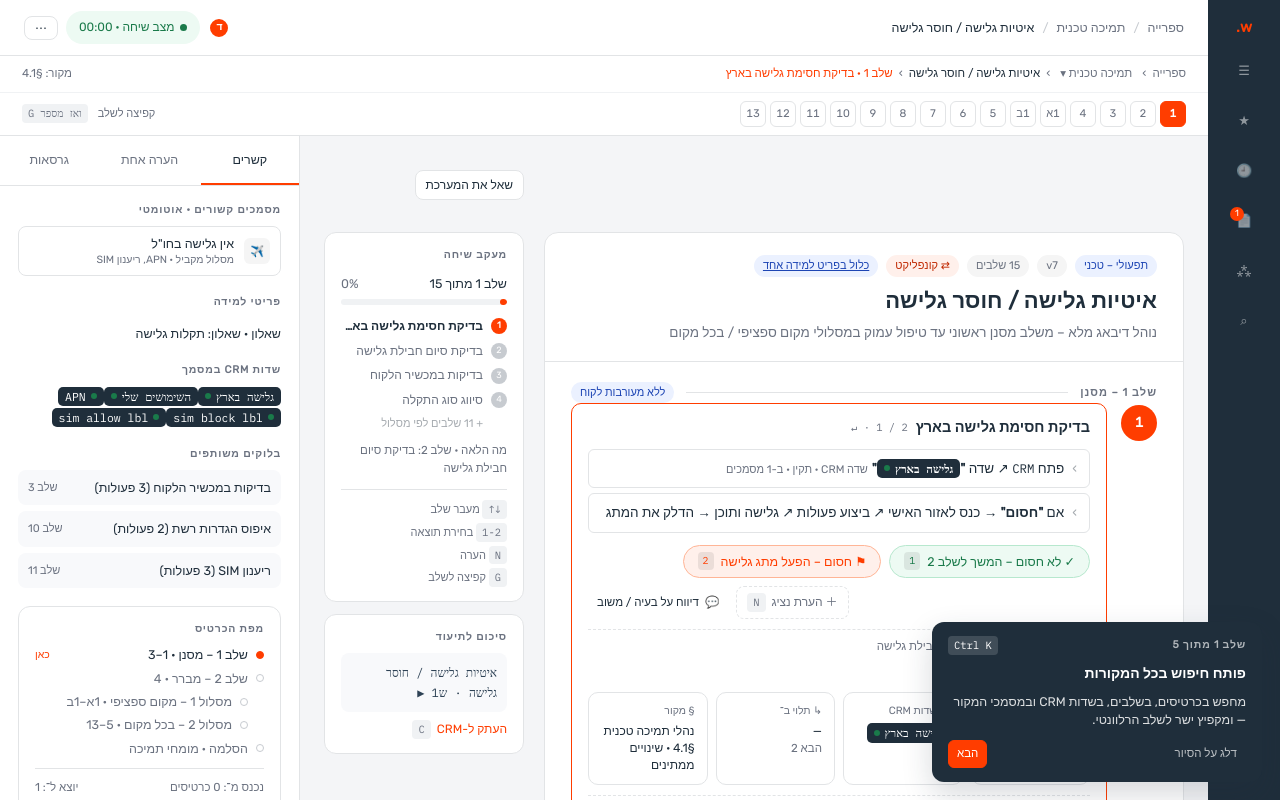
Scenario: article topbar density (A-6) › keeps the palette reachable — Ctrl K needs a keyboard a phone does not have
Check: the heading "איטיות גלישה / חוסר גלישה" is shown, box [885,287,1157,314]
Click the button named "פעולות נוספות": (41,28) [24,16,58,40]
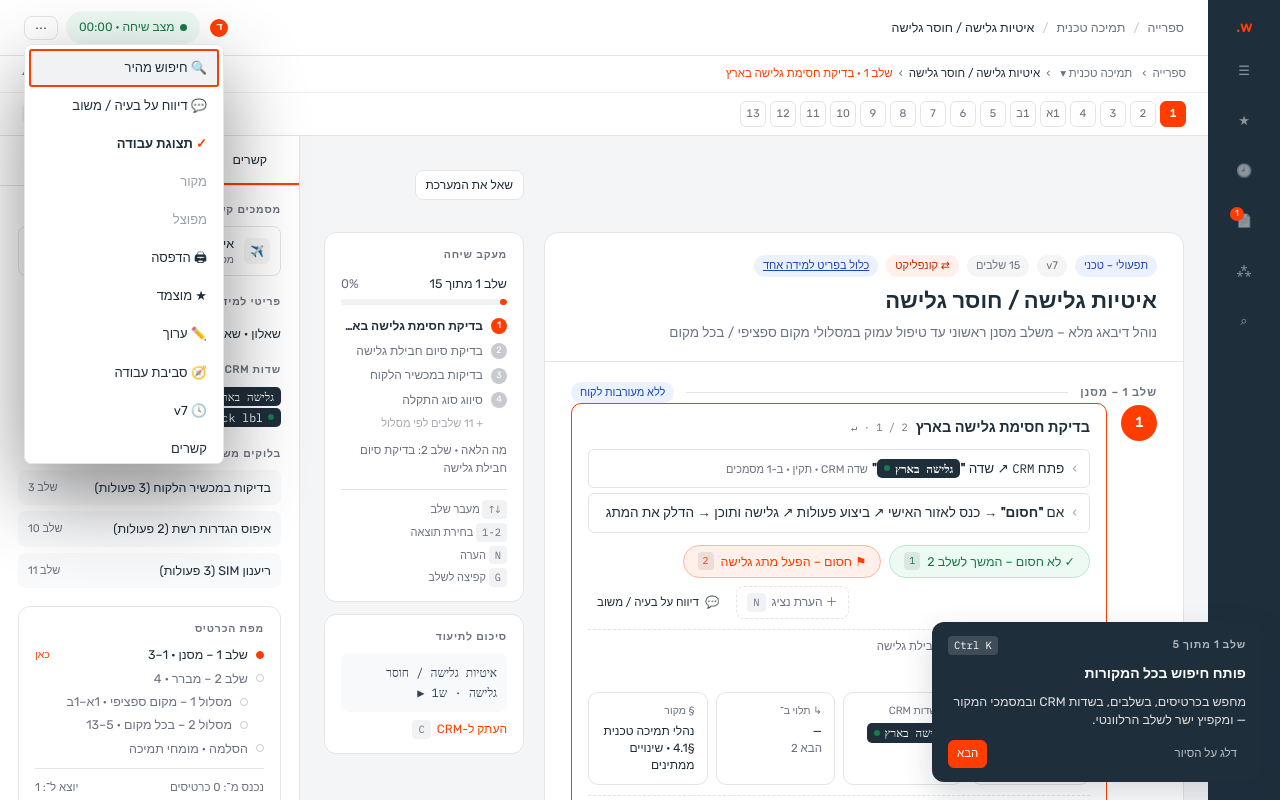
Click the menu item "🔍 חיפוש מהיר": (124,68) [29,48,219,87]
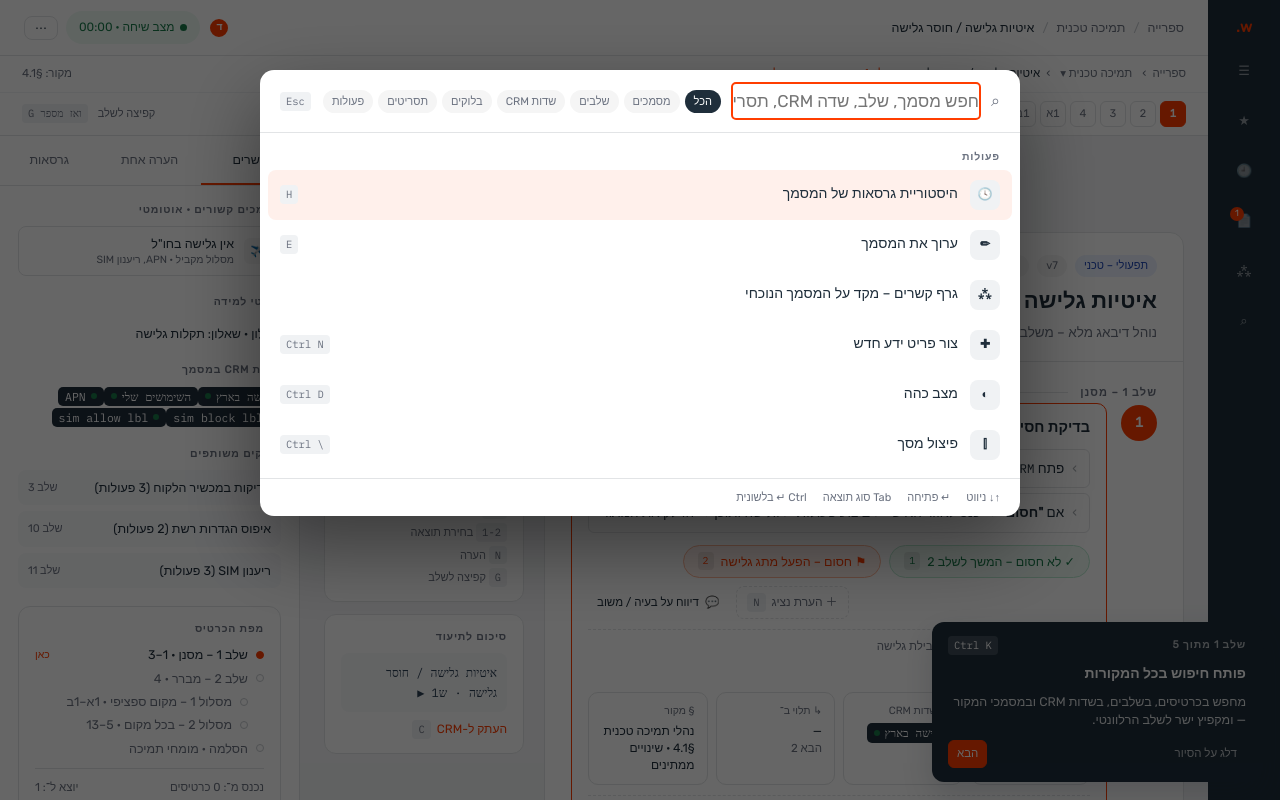
Check: the dialog named "חיפוש" is shown, box [260,70,1020,516]
